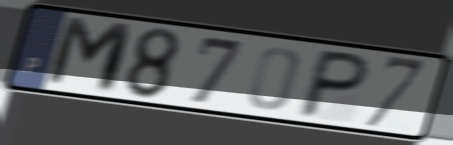0: (245, 45, 304, 112)
7: (362, 53, 431, 130), (192, 32, 245, 106)
8: (123, 26, 183, 101)
M: (42, 14, 138, 98)
P: (292, 46, 375, 120)
